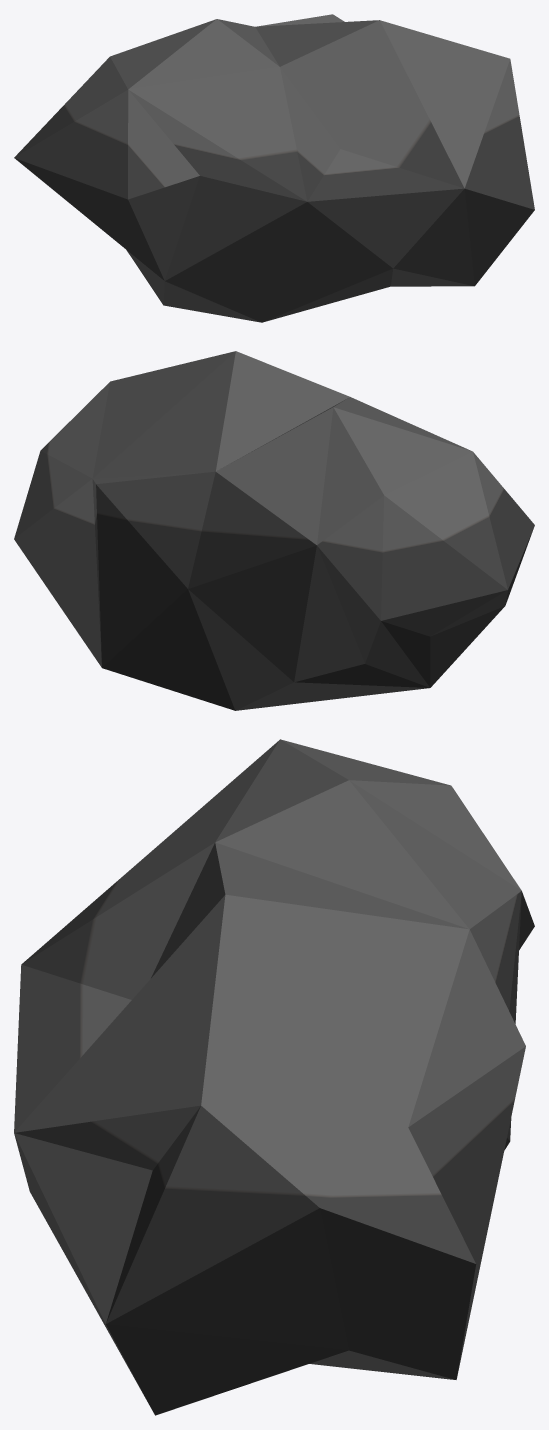
The model's file is rock01.fbx.
3 views of the same model, one above another, from view 1: azimuth 30°, elevation 25°; view 2: azimuth 150°, elevation 25°; view 3: azimuth 270°, elevation 25° (orthographic). The views are drawn at different scales.
Visible parts, largest first — view 1: ROCK1; view 2: ROCK1; view 3: ROCK1.
Part boxes in pixels (x1,y1,x2,y2): ROCK1: [14, 14, 534, 322]; ROCK1: [14, 351, 534, 710]; ROCK1: [14, 739, 534, 1415].
Size of the model in its own units: 363 by 221 by 208.
1 material, 1 textured.
